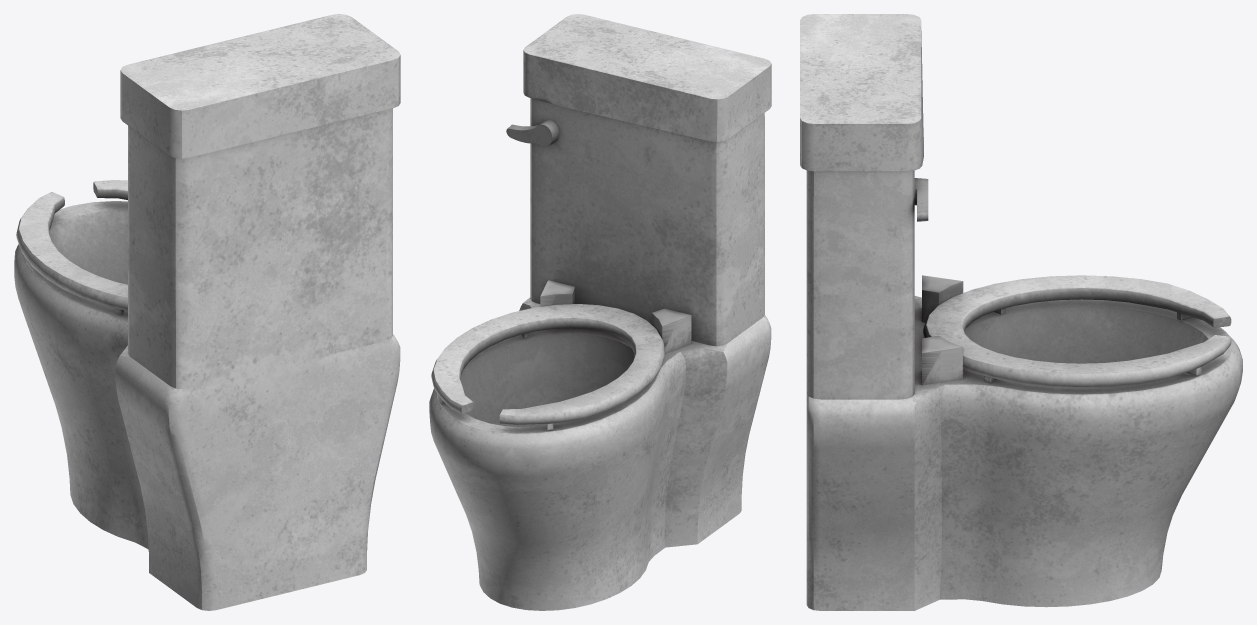
File: Toilet.fbx
3 renders of one model, left to right at view 1: azimuth 30°, elevation 25°; view 2: azimuth 150°, elevation 25°; view 3: azimuth 270°, elevation 25°, orthographic. The views are drawn at different scales.
Visible parts, largest first — view 1: Toilet; view 2: Toilet; view 3: Toilet.
Boxes of the visible parts, left/top/right/bottom form: Toilet: left=14, top=14, right=400, bottom=610; Toilet: left=429, top=14, right=771, bottom=610; Toilet: left=800, top=14, right=1242, bottom=610.
Size of the model in its own units: 0.5 by 0.8 by 1.
